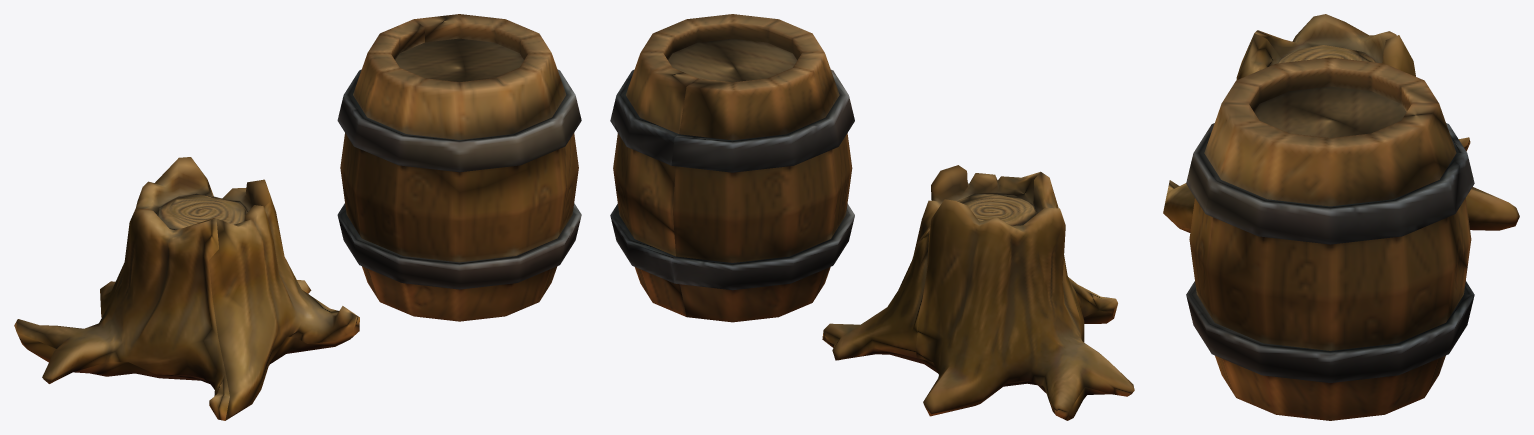
Rendered from stylized-basic-props-e40c85.glb.
3 renders of one model, left to right at view 1: azimuth 30°, elevation 25°; view 2: azimuth 150°, elevation 25°; view 3: azimuth 270°, elevation 25°, orthographic. The views are drawn at different scales.
Visible parts, largest first — view 1: PropMesh; view 2: PropMesh; view 3: PropMesh.
Part boxes in pixels (x1,y1,x2,y2): PropMesh: (14,14,581,420); PropMesh: (610,14,1134,420); PropMesh: (1163,14,1519,420).
Size of the model in its own units: 1.86 by 0.85 by 0.9422.
Materials: 2 (2 with a texture image).
